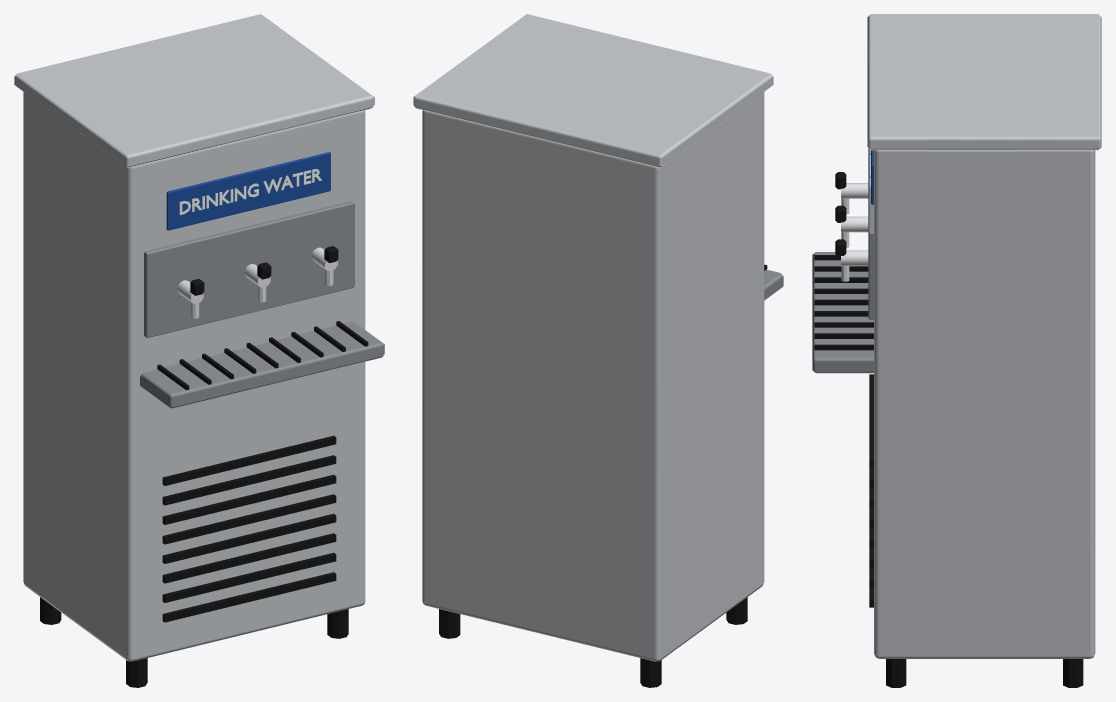
File: water_cooler.glb
3 views of the same model, side by side, from view 1: azimuth 30°, elevation 25°; view 2: azimuth 150°, elevation 25°; view 3: azimuth 270°, elevation 25° (orthographic). The views are drawn at different scales.
Visible parts, largest first — view 1: water_cooler_mesh; view 2: water_cooler_mesh; view 3: water_cooler_mesh.
Part boxes in pixels (x1,y1,x2,y2): water_cooler_mesh: (14, 14, 384, 687); water_cooler_mesh: (413, 14, 783, 687); water_cooler_mesh: (812, 14, 1101, 687).
Bounding box in the file's own units: 0.67 × 1.39 × 0.655.
